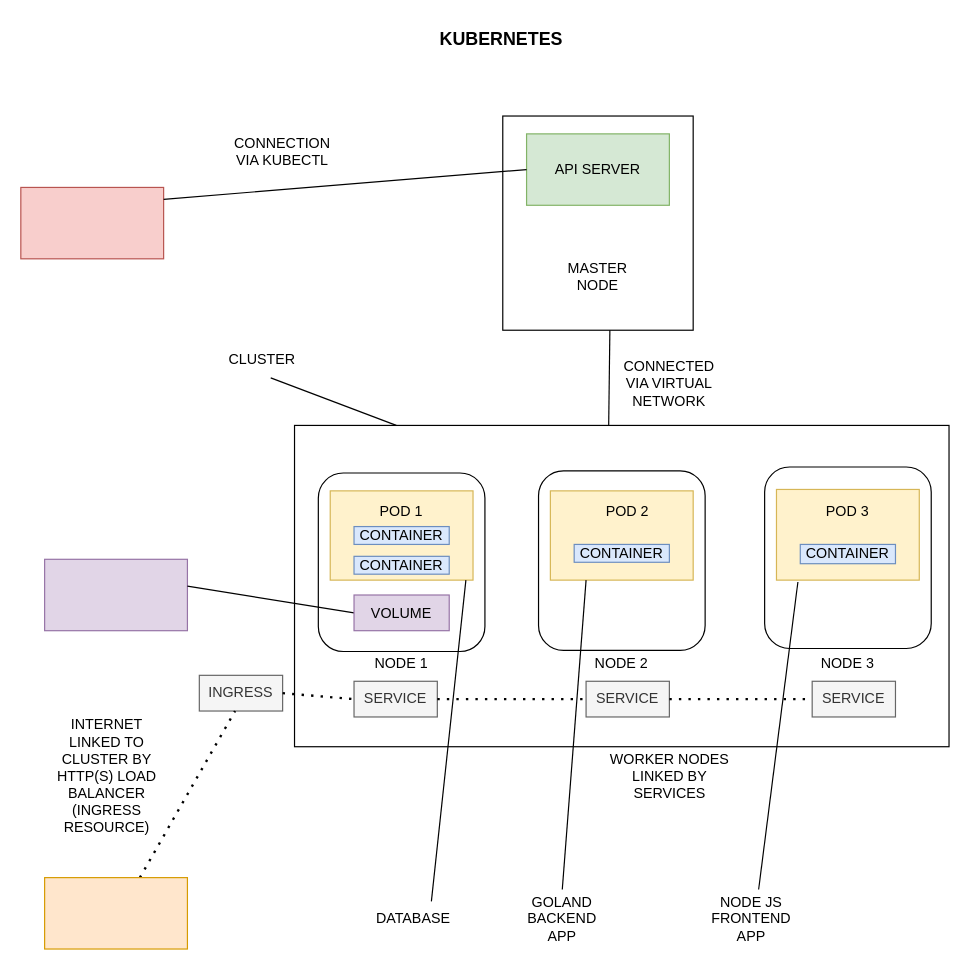
This 970x970 diagram has some shape labels left out. Here are the shapes that lost their labels. From the top down, the box of each, then its label:
(20, 186, 164, 259): MY COMPUTER
(43, 558, 187, 631): REMOTE STORAGE
(43, 876, 187, 949): HTTP(S) CLIENT
